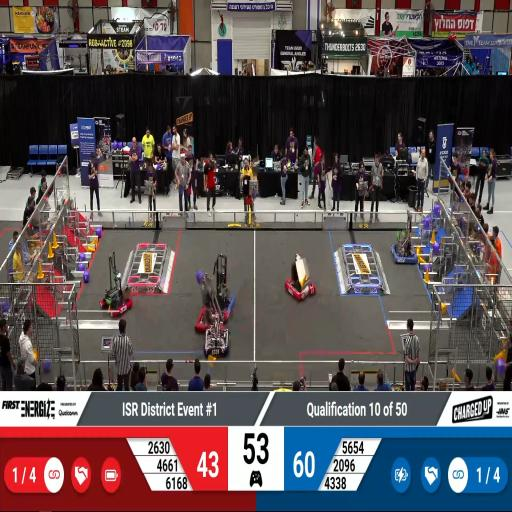robot: (98, 278, 134, 320), (193, 298, 228, 334), (286, 265, 317, 305), (209, 273, 235, 316), (391, 226, 418, 266), (205, 326, 231, 362)
